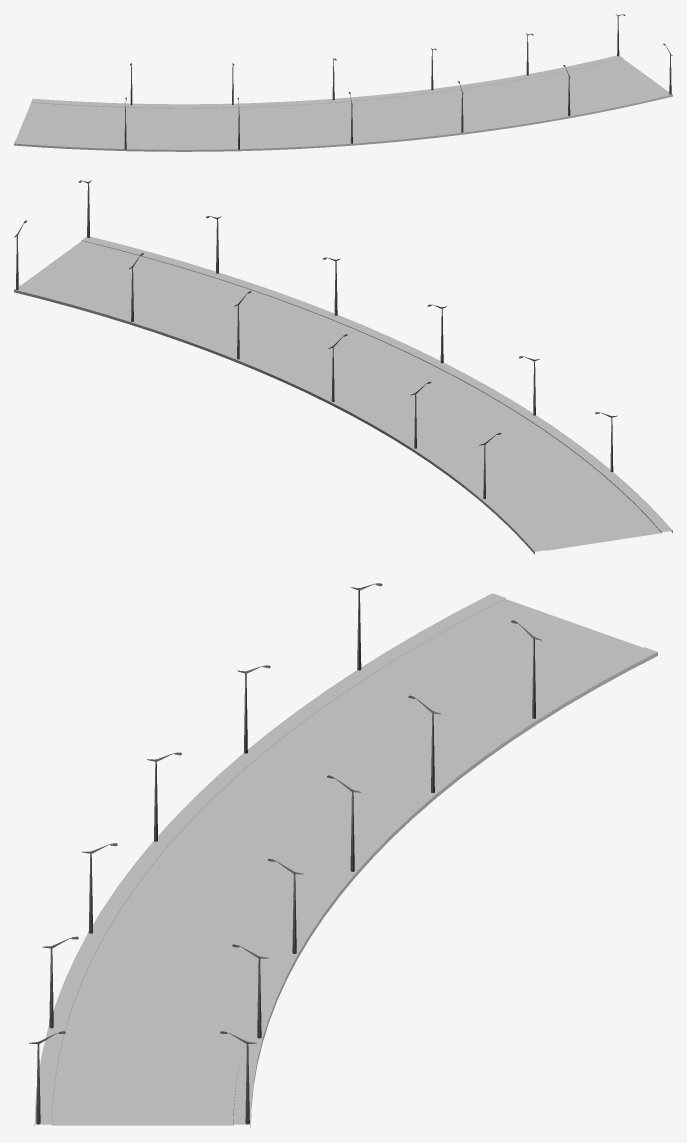
Rendered from Big_Road_40.FBX.
3 views of the same model, one above another, from view 1: azimuth 30°, elevation 25°; view 2: azimuth 150°, elevation 25°; view 3: azimuth 270°, elevation 25° (orthographic). The views are drawn at different scales.
Visible parts, largest first — view 1: Big_Road_40, city_light007; view 2: Big_Road_40, city_light007; view 3: Big_Road_40, city_light007.
Boxes of the visible parts, bbox=[...] form: Big_Road_40: bbox=[14, 55, 672, 151]; city_light007: bbox=[124, 14, 672, 149]; Big_Road_40: bbox=[14, 236, 672, 554]; city_light007: bbox=[14, 180, 617, 498]; Big_Road_40: bbox=[34, 593, 657, 1127]; city_light007: bbox=[29, 583, 541, 1124].
Bounding box in the file's own units: 132 × 66.02 × 11.04.
